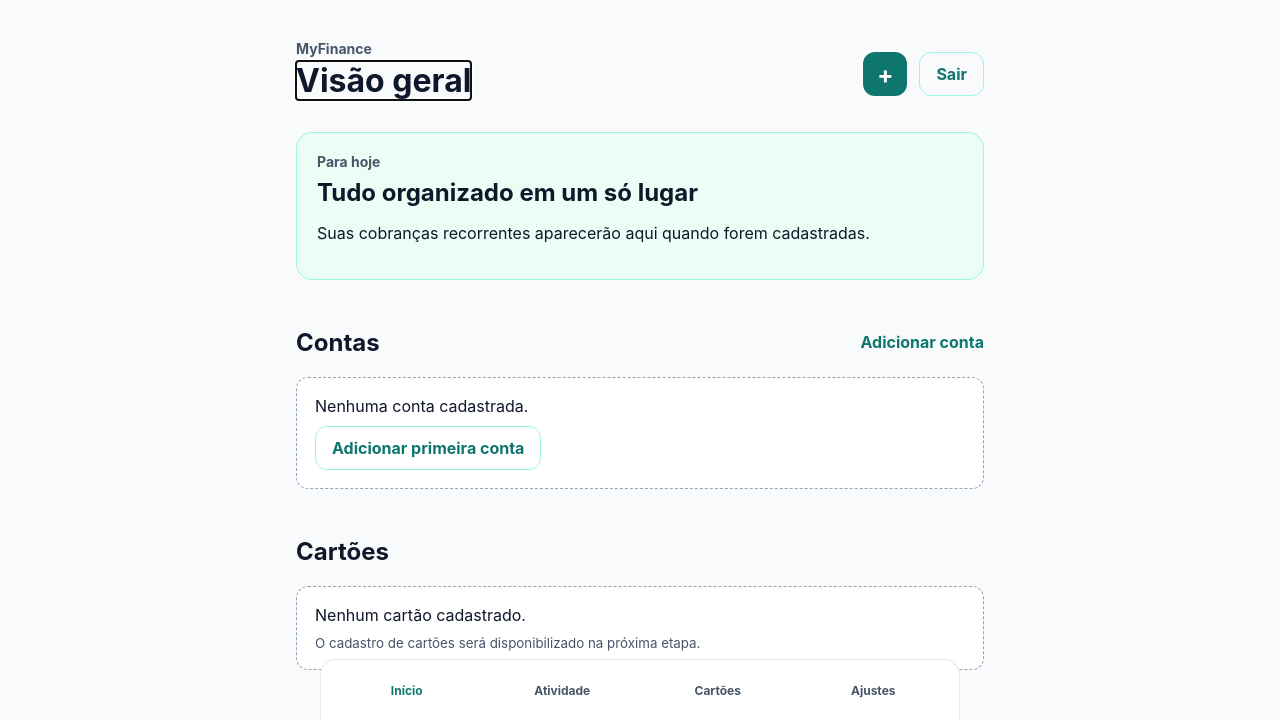
it: Finance home data › rejects an opening balance with ambiguous separators
Click the button "Adicionar primeira conta".
click(428, 448)  # box [315, 426, 541, 470]
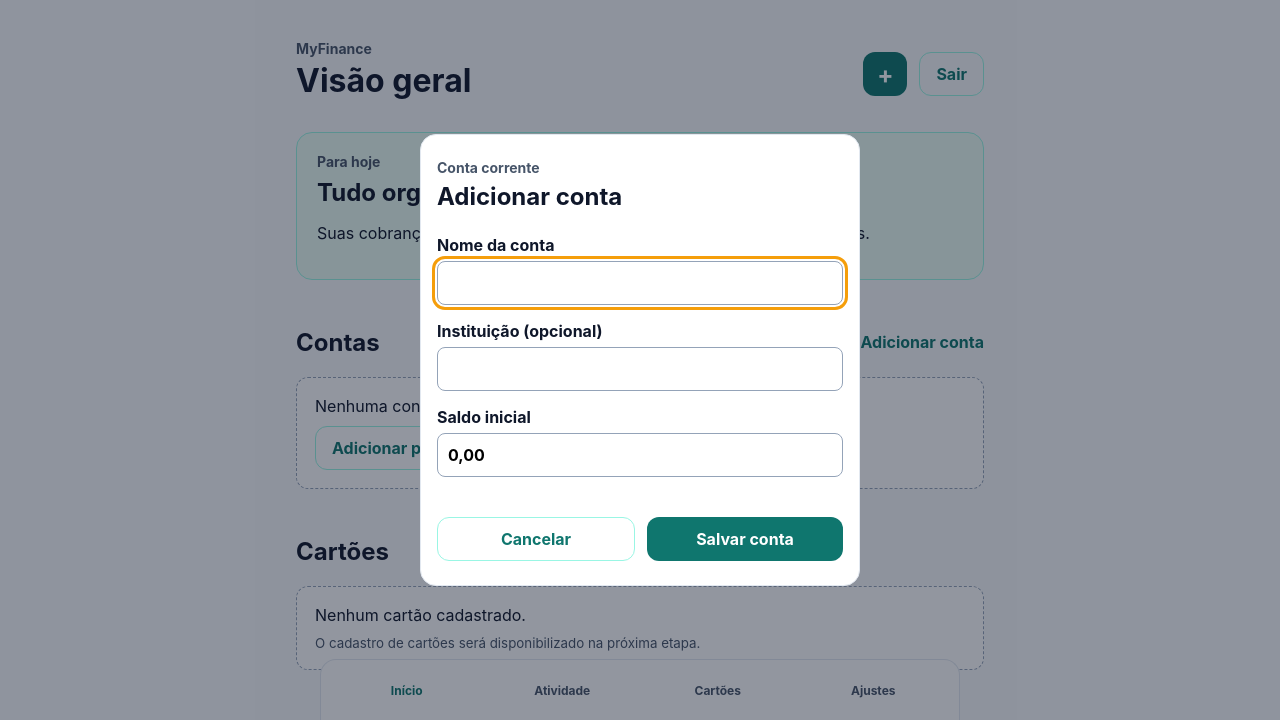
Type "Conta principal" into the field labelled "Nome da conta".
click(640, 283); type("Conta principal")  # box [437, 261, 843, 305]
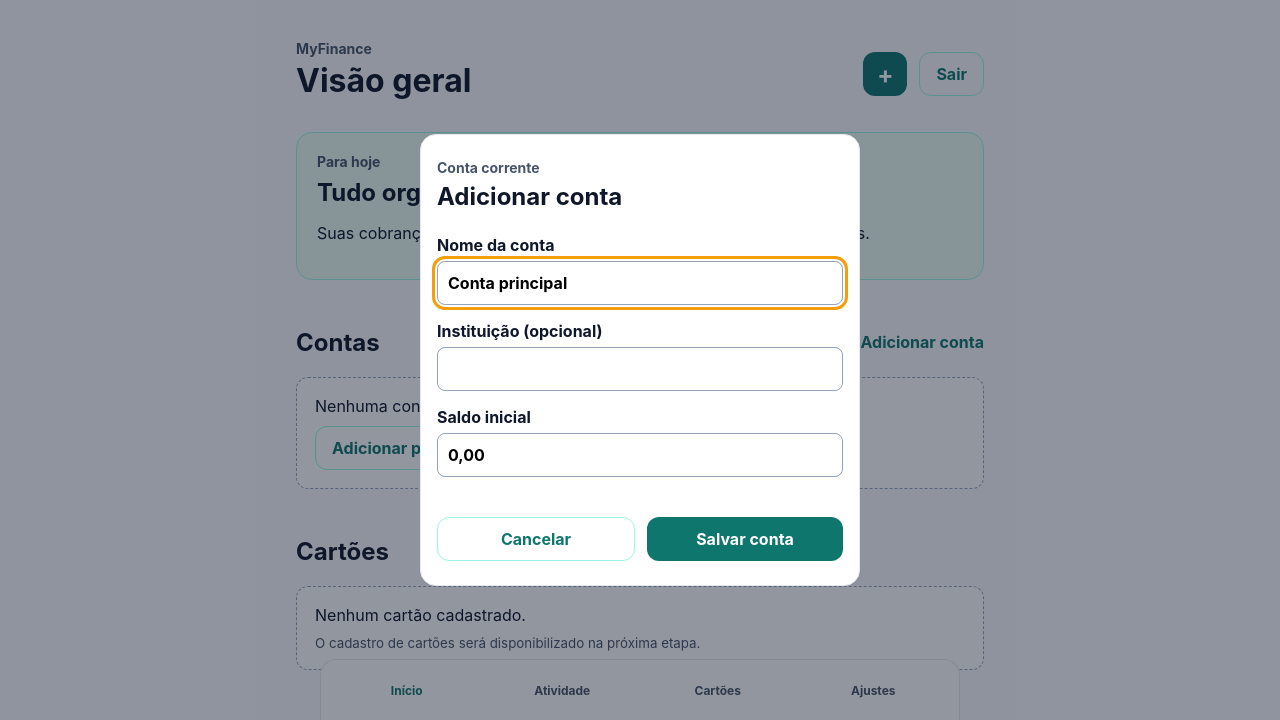
Replace the text in the field labelled "Saldo inicial" with "10.5.0" at [640, 455], box [437, 433, 843, 477]
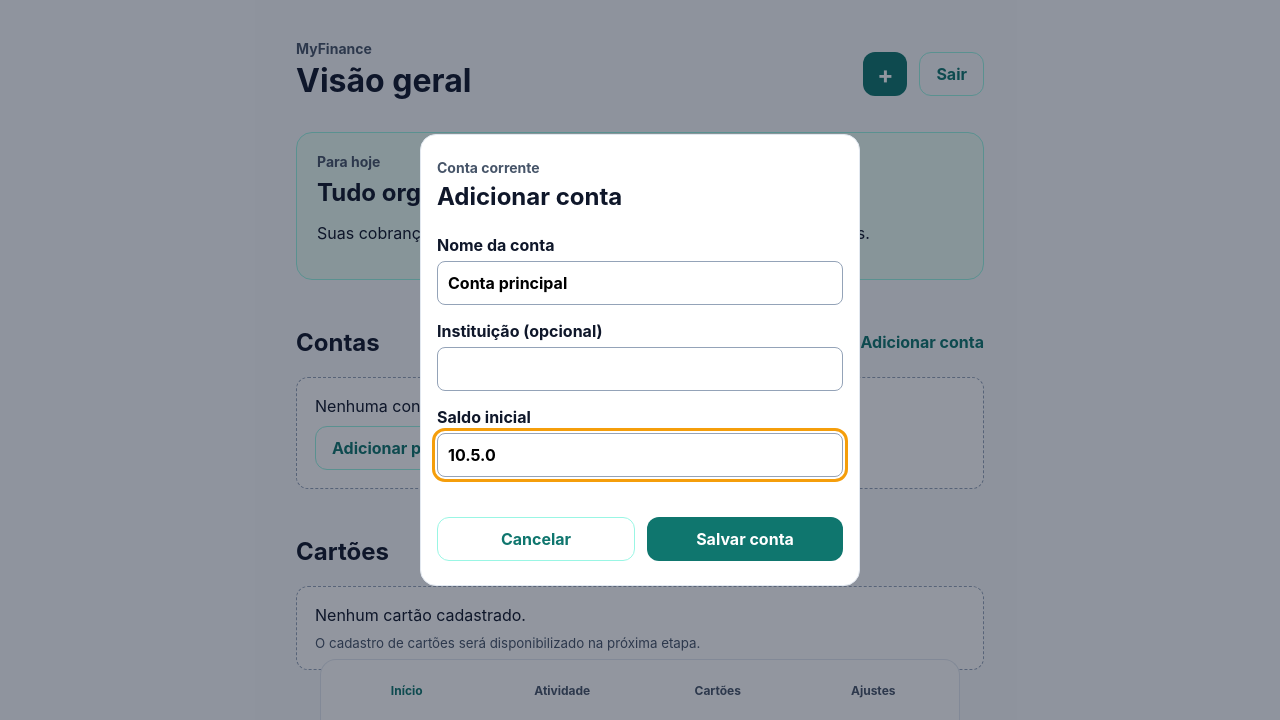
Click the button "Salvar conta".
click(745, 539)  # box [647, 517, 843, 561]
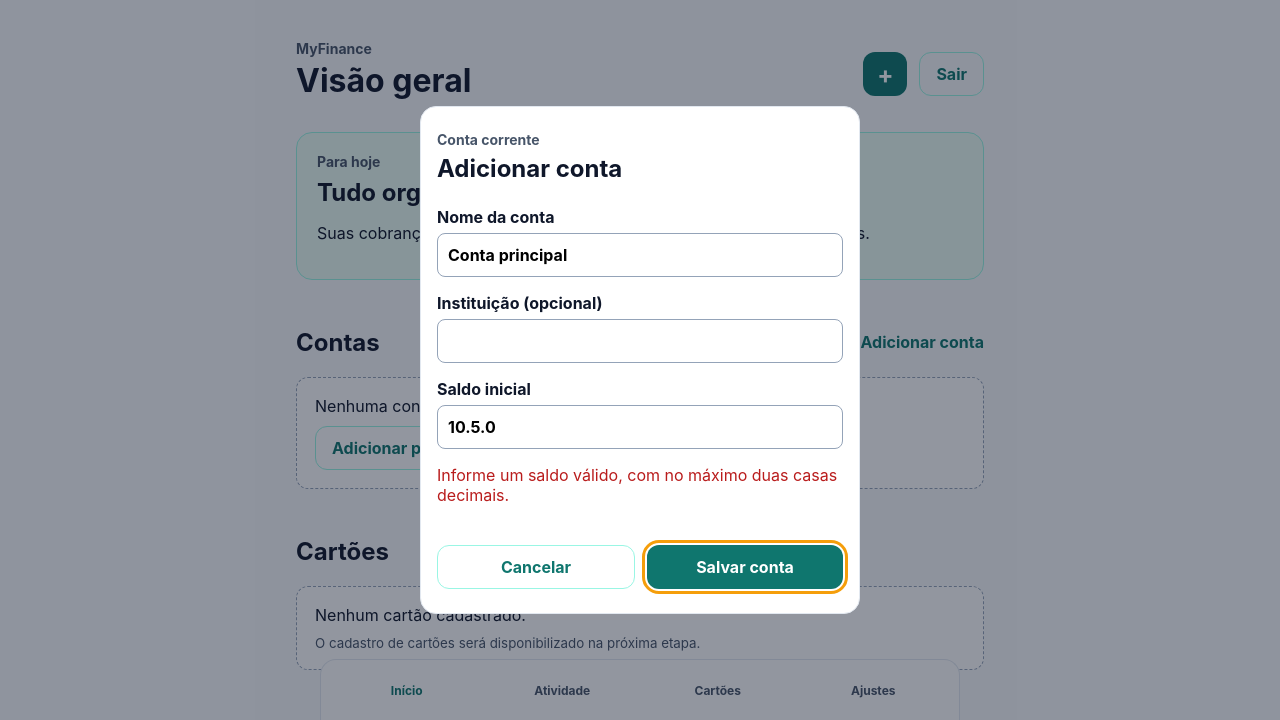
Check: the message shows "Informe um saldo válido", box [437, 465, 837, 505]
